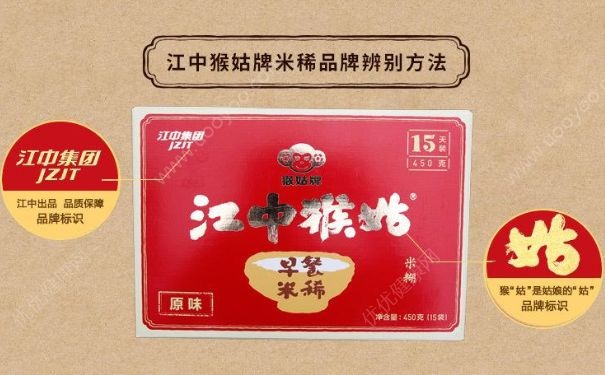box: (133, 104, 470, 343)
